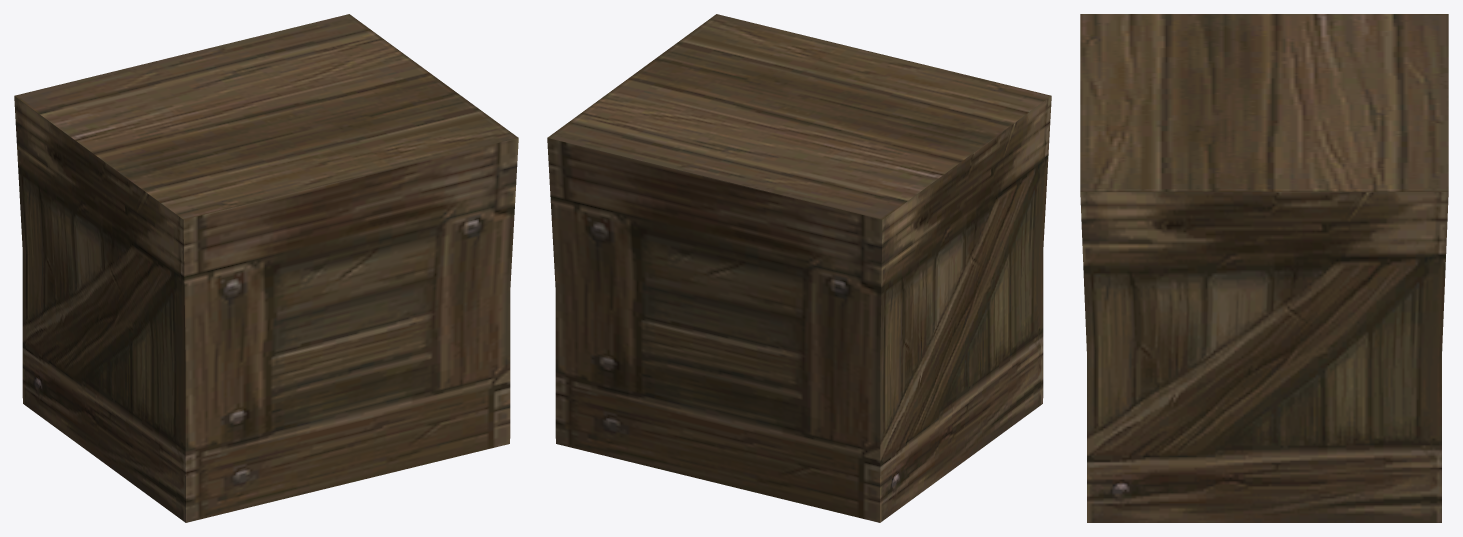
Rendered from js_suilie_xiangzi_001.FBX.
3 views of the same model, side by side, from view 1: azimuth 30°, elevation 25°; view 2: azimuth 150°, elevation 25°; view 3: azimuth 270°, elevation 25° (orthographic). The views are drawn at different scales.
Visible parts, largest first — view 1: Object02; view 2: Object02; view 3: Object02.
Part boxes in pixels (bbox=[...]): Object02: bbox=[14, 14, 518, 522]; Object02: bbox=[547, 14, 1051, 522]; Object02: bbox=[1080, 14, 1448, 522].
Bounding box in the file's own units: 74.5 × 65.17 × 65.17.
